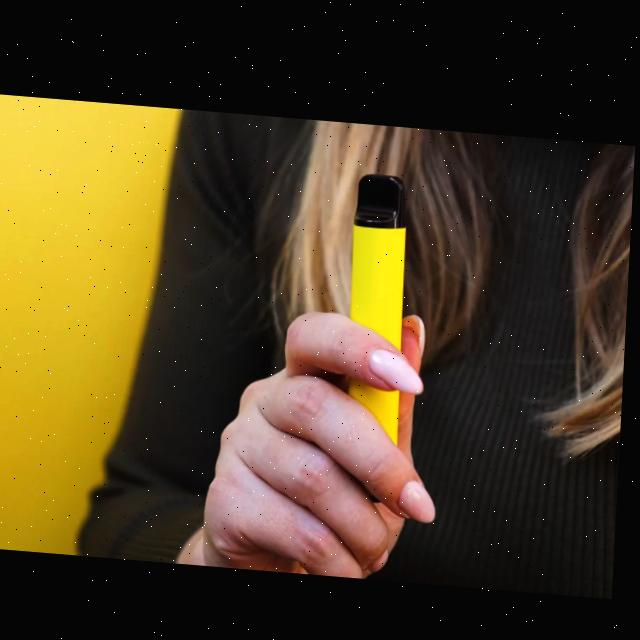vape: (348, 165, 411, 439)
